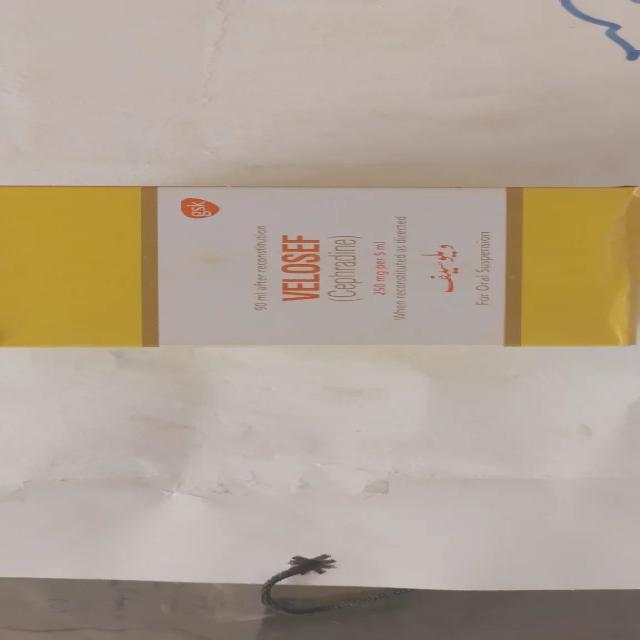drug-name: (275, 230, 325, 304)
